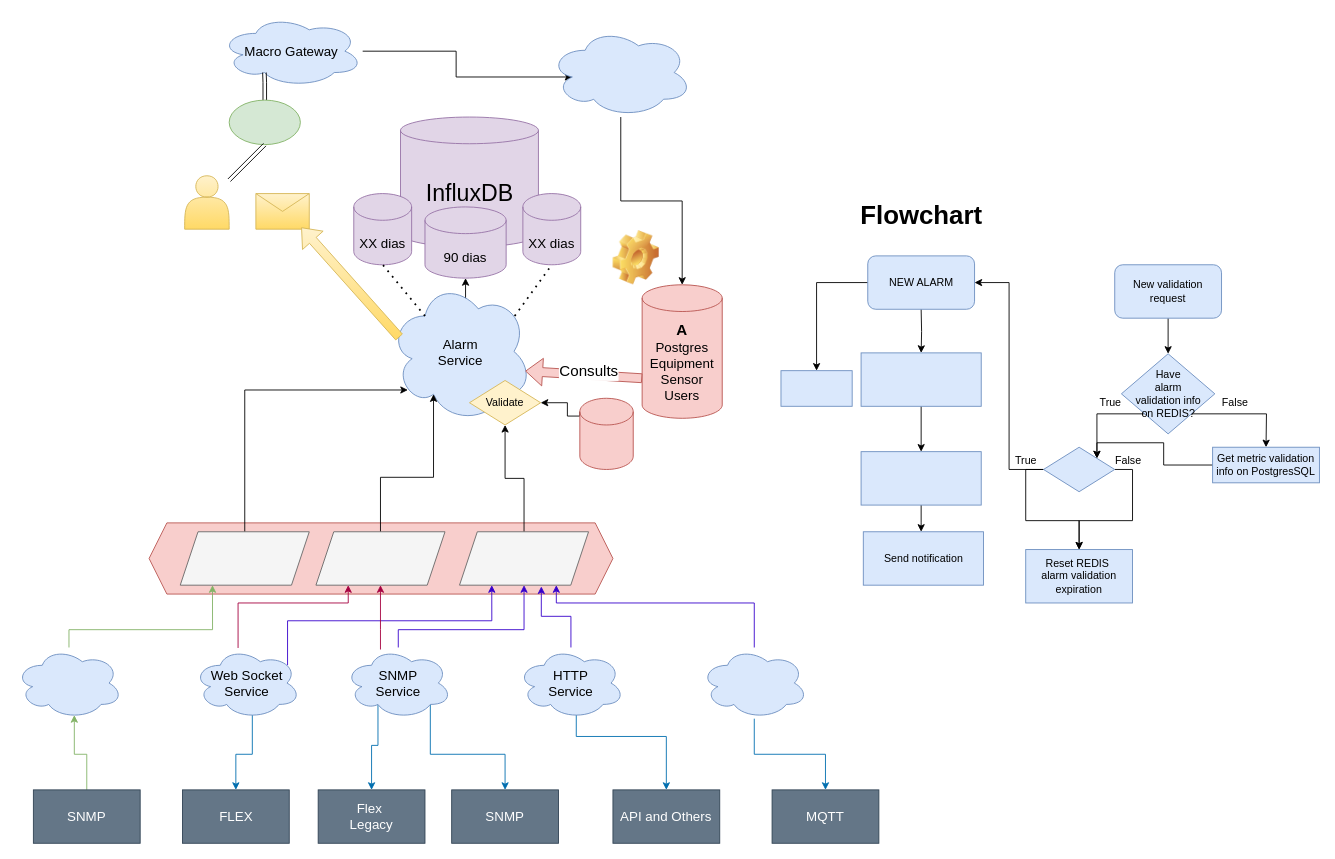
Image size: 1335x859. Some labels were removed from this diagram. Here are the shapes that lost their labels. From the top down, the centre of each, then its label:
(620,72): Manager Service
(264,122): Web Page
(816,388): Save on InfluxDB
(920,379): Get all users's FKs in profiles that reads this metric
(606,433): Redis
(920,478): Get all users notification informations
(1079,469): Is Alarm?
(244,558): "alarm"
(380,558): "alarm_value"
(524,558): "validation"
(68,683): Trap Receiver Service
(754,683): MQTT Service
